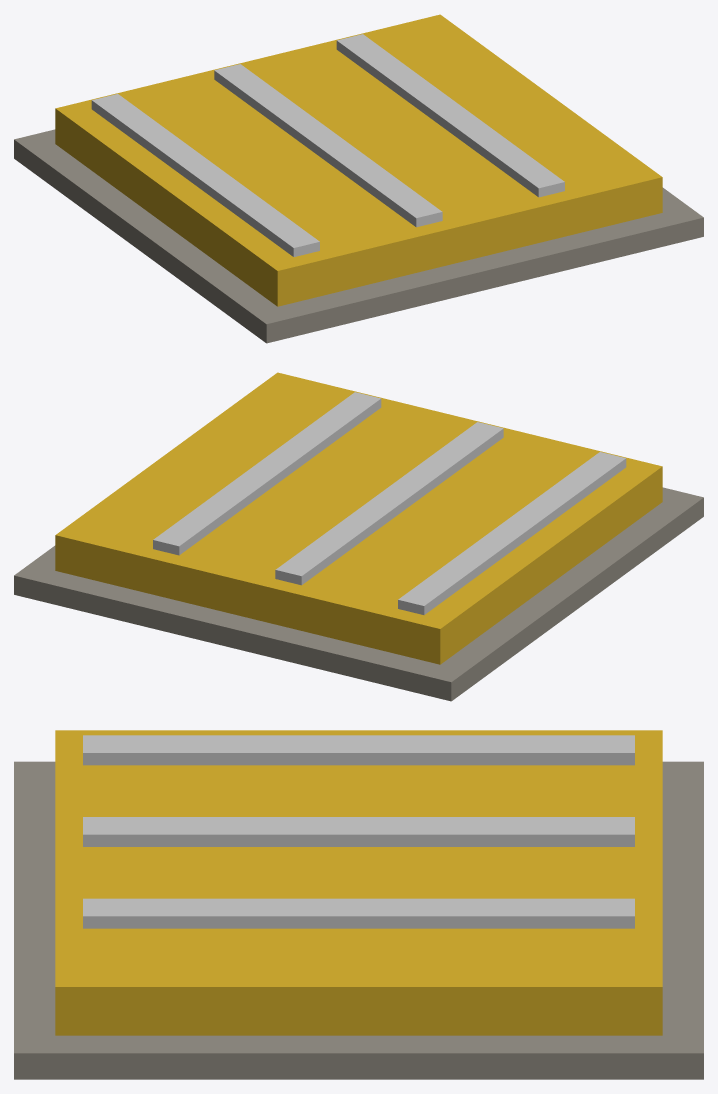
Rendered from maintenance_hatch.obj.
The picture shows the model from 3 angles, top to bottom: view 1: azimuth 30°, elevation 25°; view 2: azimuth 150°, elevation 25°; view 3: azimuth 270°, elevation 25°; orthographic projection. The views are drawn at different scales.
Visible parts, largest first — view 1: maintenance_hatch; view 2: maintenance_hatch; view 3: maintenance_hatch.
Boxes of the visible parts, x1,y1,x2,y2 form: maintenance_hatch: (14,14,703,343); maintenance_hatch: (14,372,703,701); maintenance_hatch: (14,730,703,1079).
Size of the model in its own units: 1 by 0.14 by 1.
